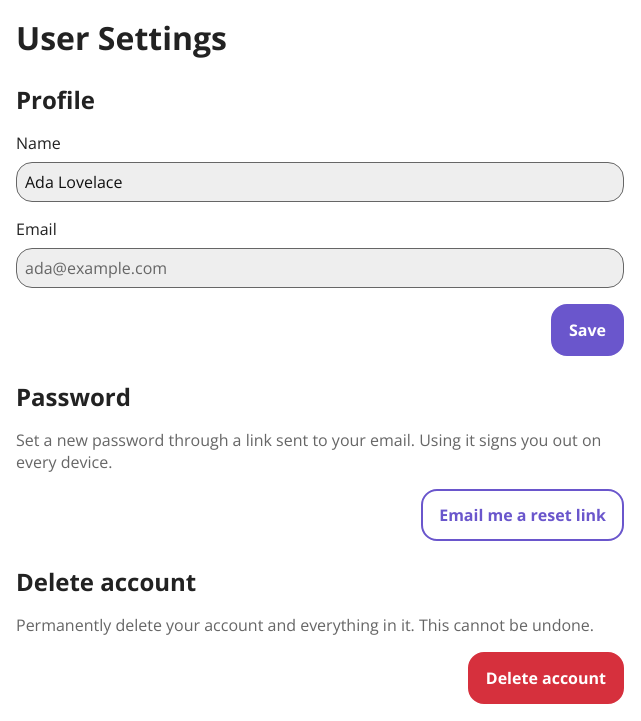
Test case: UserSettings › emails a password reset link to the account address
The image size is (641, 721).
Expected: the heading "User Settings" is shown, [16,16,227,59]
Click the button "Email me a reset link": click(523, 515) [421,489,624,541]
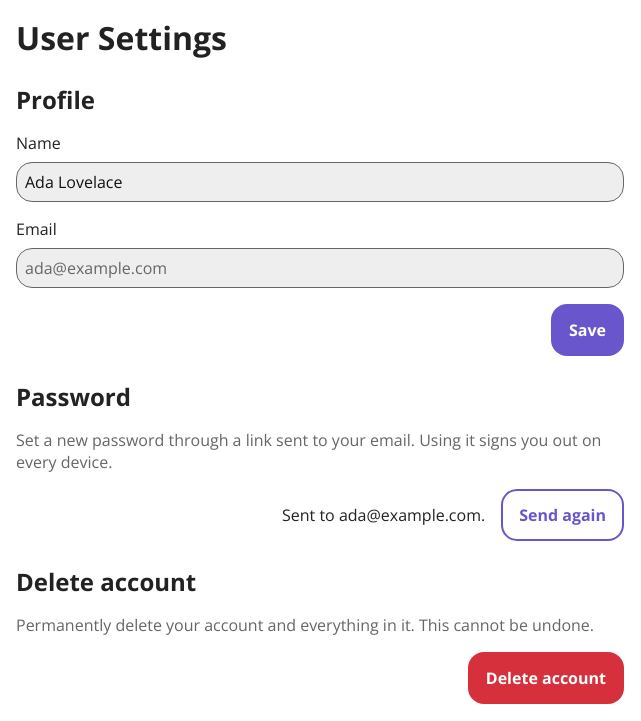
Result: the message shows "Sent to ada@example.com" at [282,504,485,526]
